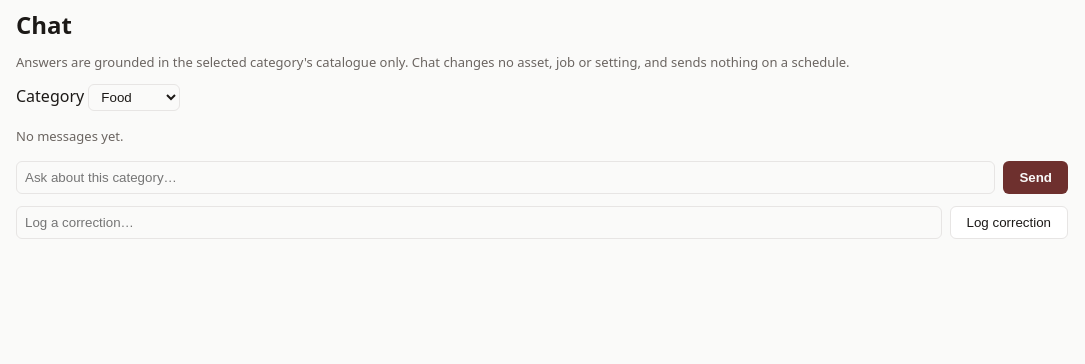
ChatPage › sending a question posts and renders the grounded reply
The image size is (1085, 364).
Type "When does the milk expire?" into the field named "Question". click: (506, 177)
box: [16,161,995,194]
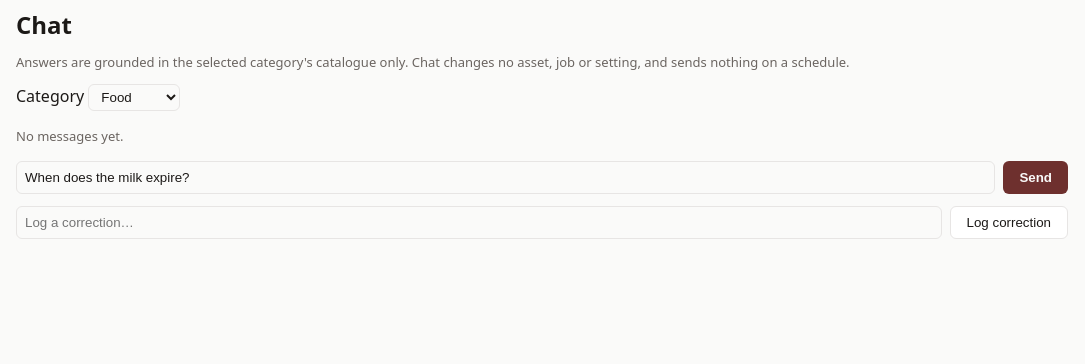
Click the button "Send". click: click(1036, 177)
box: [1003,161,1068,194]
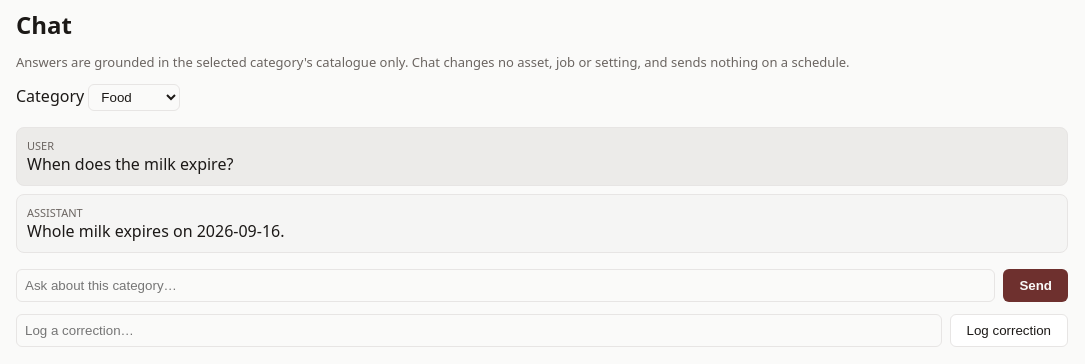
expect the text "Whole milk expires on 2026-09-16." is shown: met, box [27,220,284,242]
